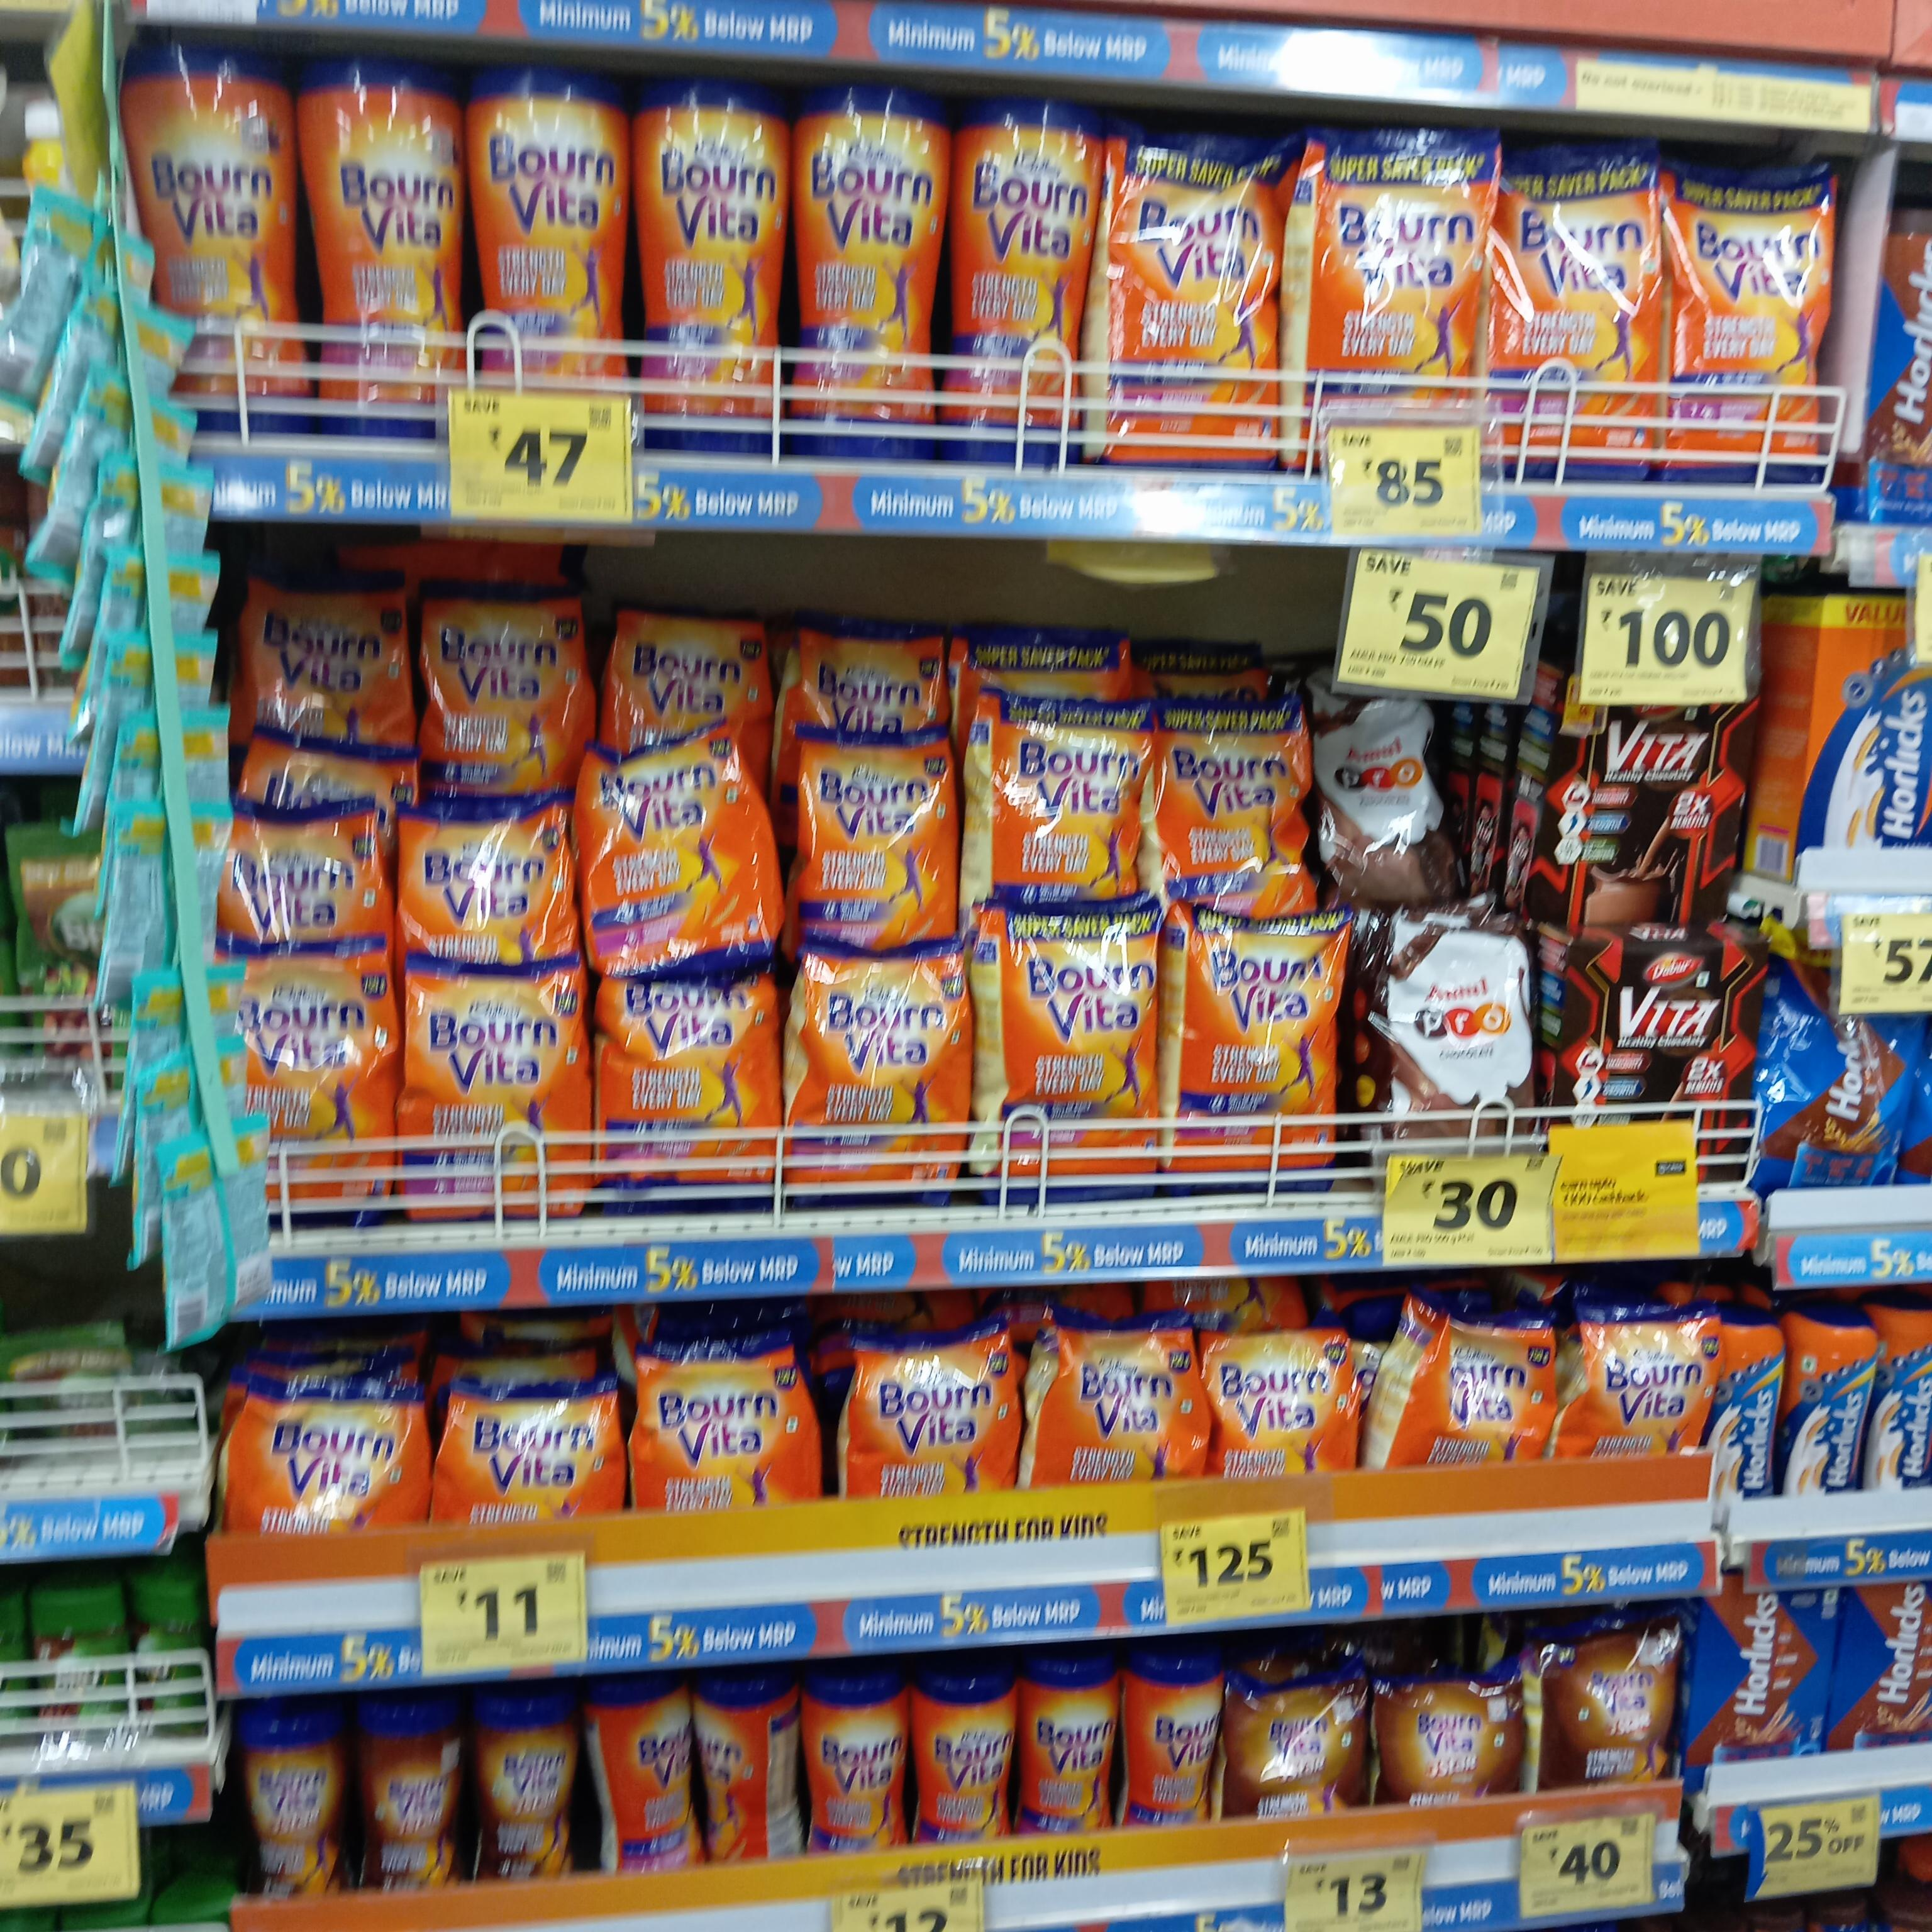BOURN_VITA_1_KG_JAR: (140, 41, 303, 435), (311, 51, 453, 437), (794, 88, 941, 458), (640, 74, 778, 455), (950, 94, 1086, 465), (467, 60, 619, 393)
BOURN_VITA_1_KG_POUCH: (1108, 124, 1283, 472), (1499, 147, 1658, 483), (1663, 150, 1817, 483), (1307, 124, 1479, 419), (1005, 899, 1161, 1203), (1187, 906, 1343, 1200), (989, 688, 1146, 897), (1161, 695, 1306, 899)
BOURN_VITA_500_G_JAR: (920, 1663, 1019, 1858), (809, 1660, 904, 1852), (1028, 1649, 1116, 1851), (1127, 1645, 1219, 1835), (607, 1684, 690, 1877)
BOURN_VITA_500_G_POUCH: (235, 1382, 430, 1530), (442, 1378, 625, 1525)
BOURN_VITA_750_G_POUCH: (410, 964, 584, 1221), (807, 945, 971, 1212), (239, 939, 389, 1224), (586, 731, 741, 966), (609, 975, 759, 1214), (633, 1346, 817, 1522), (800, 724, 954, 932), (419, 586, 575, 789), (851, 1339, 1014, 1500), (1049, 1320, 1201, 1488), (407, 793, 561, 957), (221, 798, 386, 941), (1212, 1330, 1362, 1481), (1591, 1309, 1718, 1465), (1449, 1315, 1557, 1470)
BOURN_VITA_FIVE_STAR_MAGIC_500_G_JAR: (476, 1686, 579, 1893), (237, 1691, 340, 1897), (363, 1691, 462, 1900)
BOURN_VITA_FIVE_STAR_MAGIC_500_G_POUCH: (1548, 1629, 1677, 1794), (1380, 1679, 1530, 1815), (1235, 1679, 1361, 1821)
HORLICK_CHOCOLATE_500_G_PACK: (1700, 1580, 1829, 1759), (1838, 1580, 1932, 1753)
HORLICK_CLASSIC_MALT_500_G_JAR: (1792, 1322, 1874, 1499), (1877, 1302, 1932, 1490), (1727, 1322, 1780, 1502)
